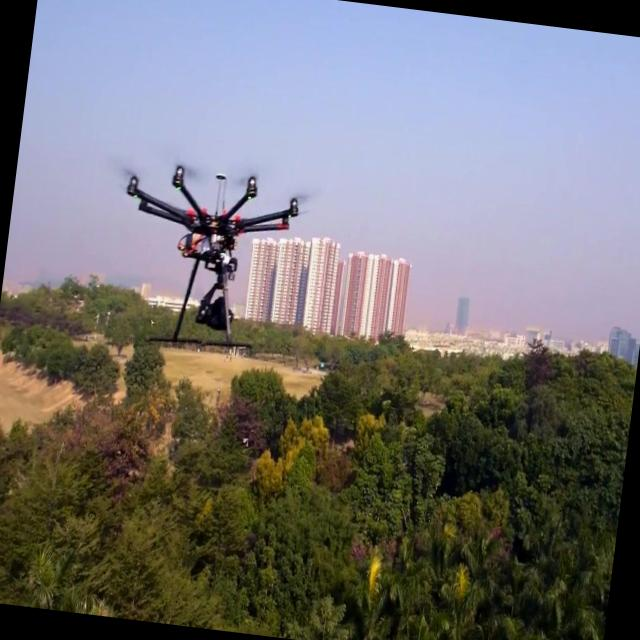drone: (107, 154, 304, 358)
